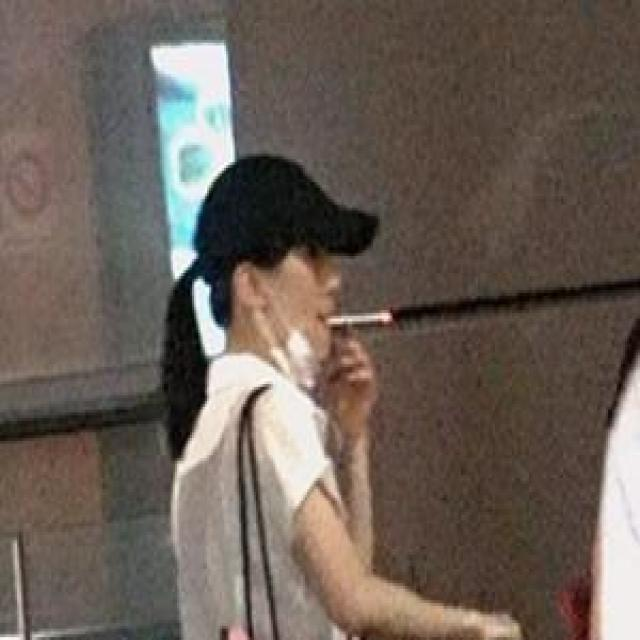Сигарета: (327, 312, 392, 326)
Тело: (161, 151, 520, 640)
